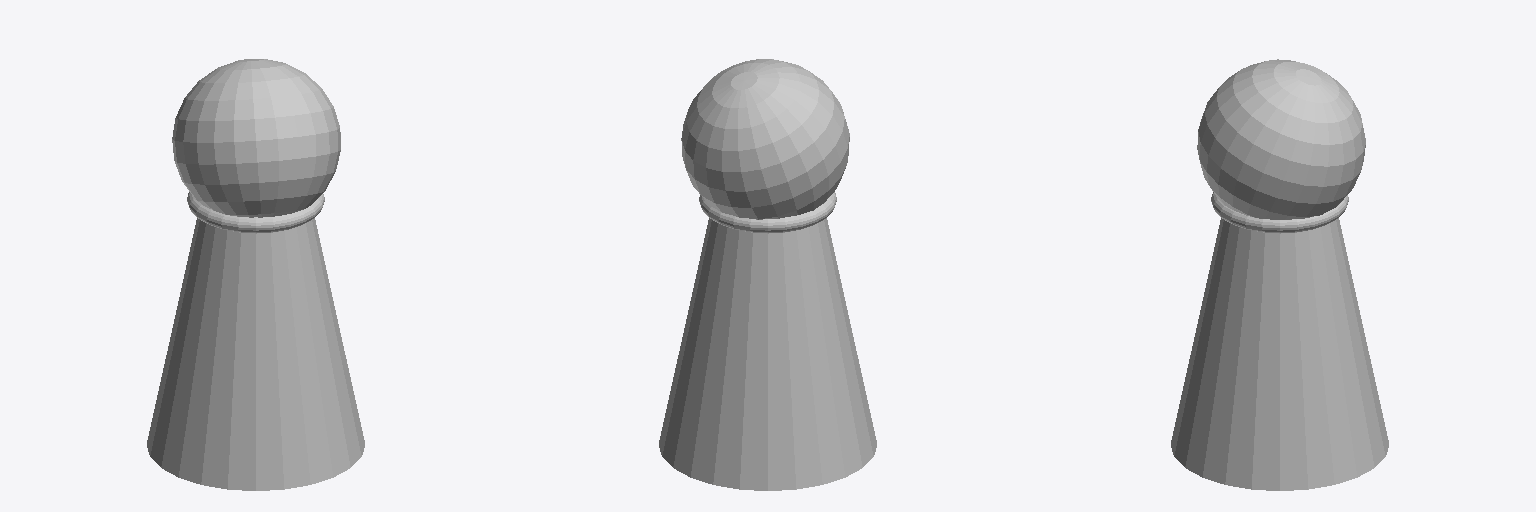
The model's file is soldier.obj.
3 renders of one model, left to right at view 1: azimuth 30°, elevation 25°; view 2: azimuth 150°, elevation 25°; view 3: azimuth 270°, elevation 25°, orthographic.
Visible parts, largest first — view 1: Mesh2 Group1 Model, Mesh1 Group2 Group1 Model; view 2: Mesh2 Group1 Model, Mesh1 Group2 Group1 Model; view 3: Mesh2 Group1 Model, Mesh1 Group2 Group1 Model.
Boxes of the visible parts, x1=… form: Mesh2 Group1 Model: x1=147, y1=192, x2=364, y2=490; Mesh1 Group2 Group1 Model: x1=172, y1=59, x2=340, y2=217; Mesh2 Group1 Model: x1=659, y1=192, x2=876, y2=490; Mesh1 Group2 Group1 Model: x1=681, y1=59, x2=849, y2=219; Mesh2 Group1 Model: x1=1171, y1=192, x2=1388, y2=490; Mesh1 Group2 Group1 Model: x1=1197, y1=59, x2=1365, y2=219.
Size of the model in its own units: 2 by 3.81 by 2.